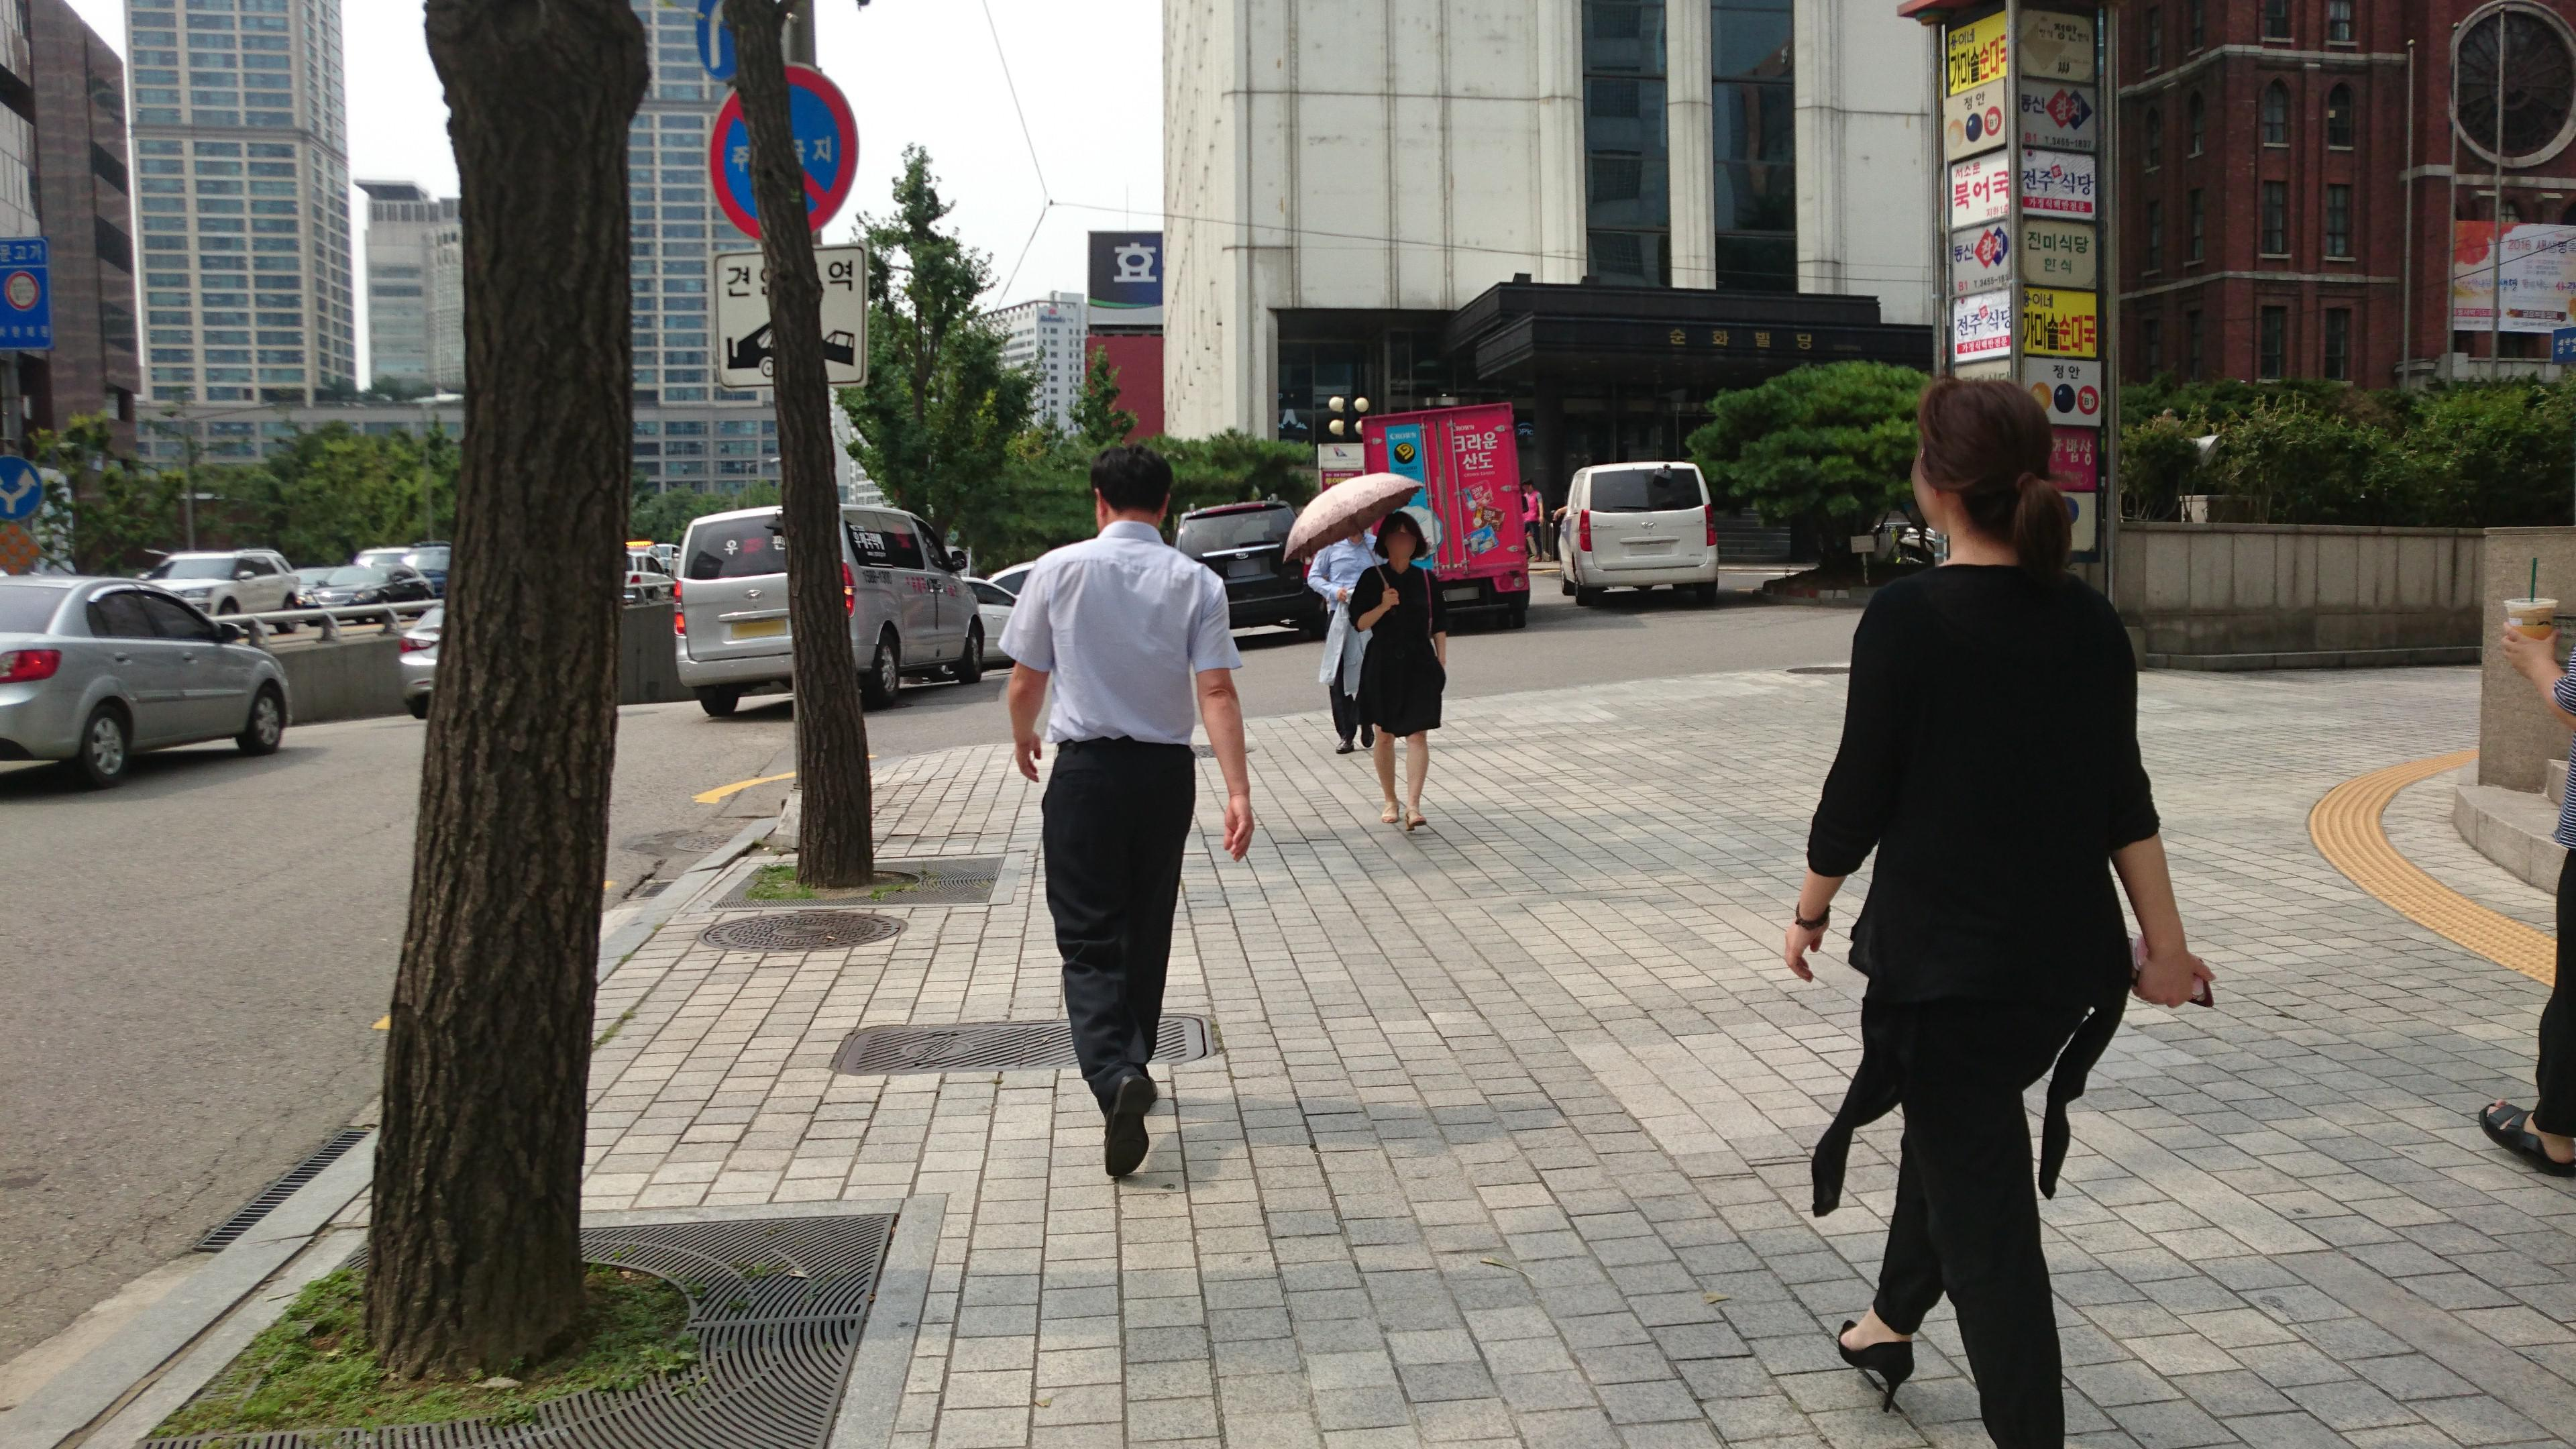vinyl banner: (2434, 209, 2576, 352)
